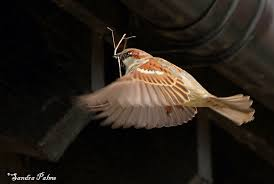hsparrow: (71, 47, 259, 132)
